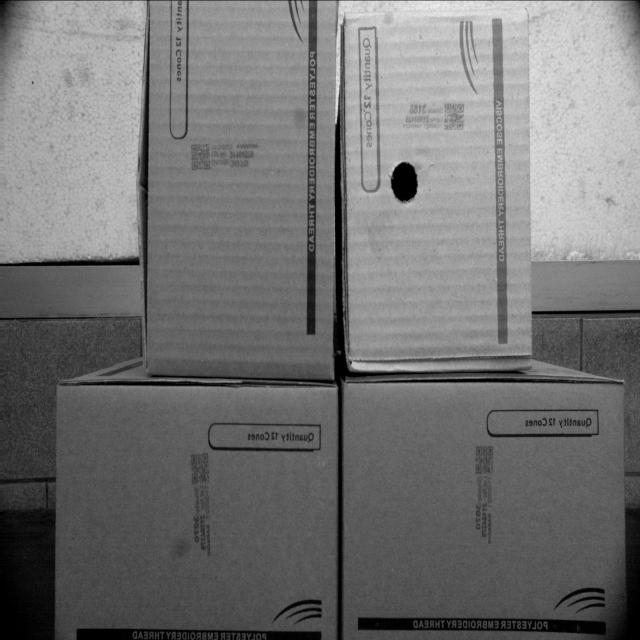cardboxes: (338, 377, 625, 639), (143, 0, 337, 383), (56, 383, 338, 639), (342, 20, 532, 374)
